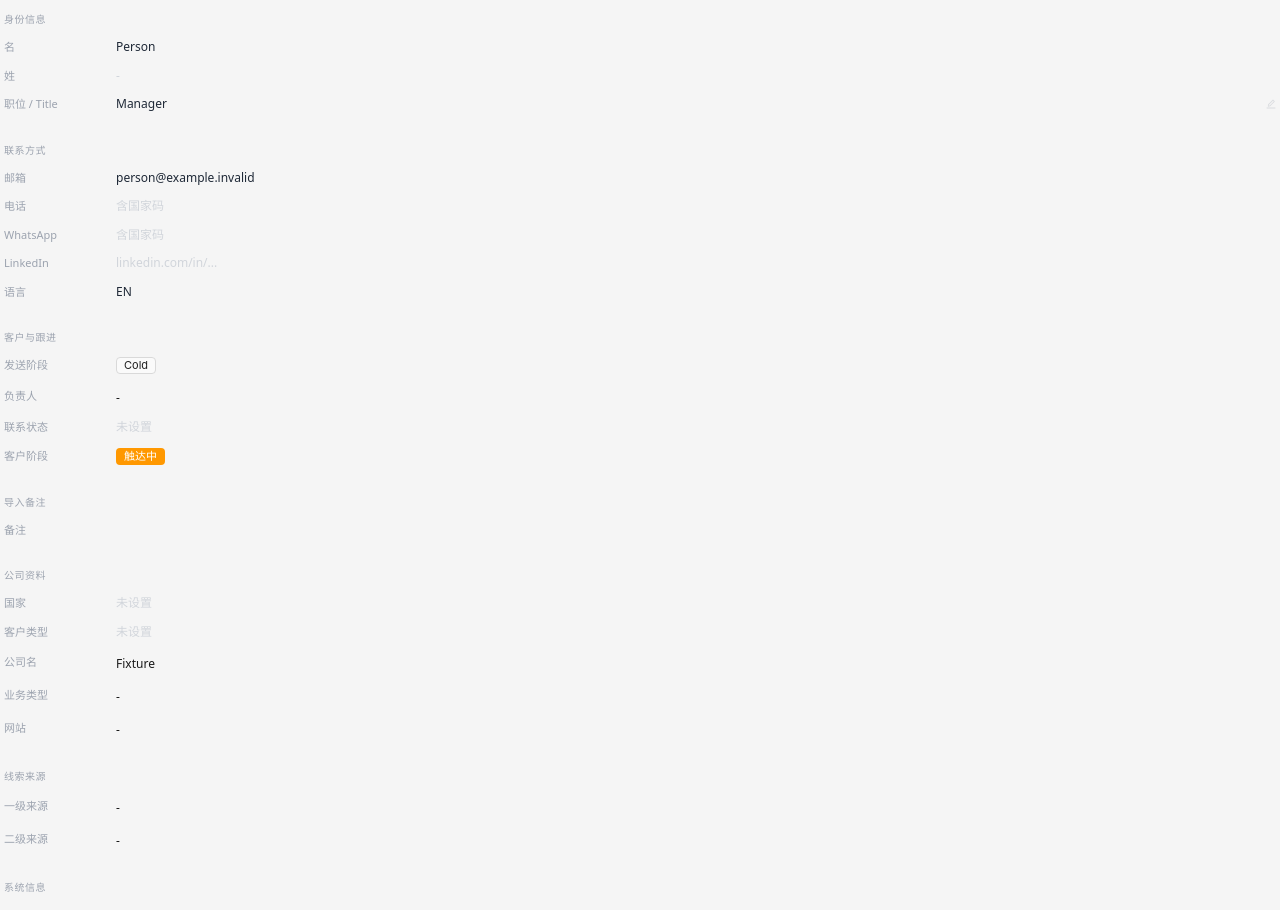
Test: sharing renderer interactions › preserves field rows while only granted fields enter edit mode
The width and height of the screenshot is (1280, 910).
Expected: the button "person@example.invalid" is disabled, [116,170,1276,186]
Expected: the button "触达中" is disabled, [116,448,1276,464]
Click the button "Manager" at (141, 104), box [116,96,1276,112]
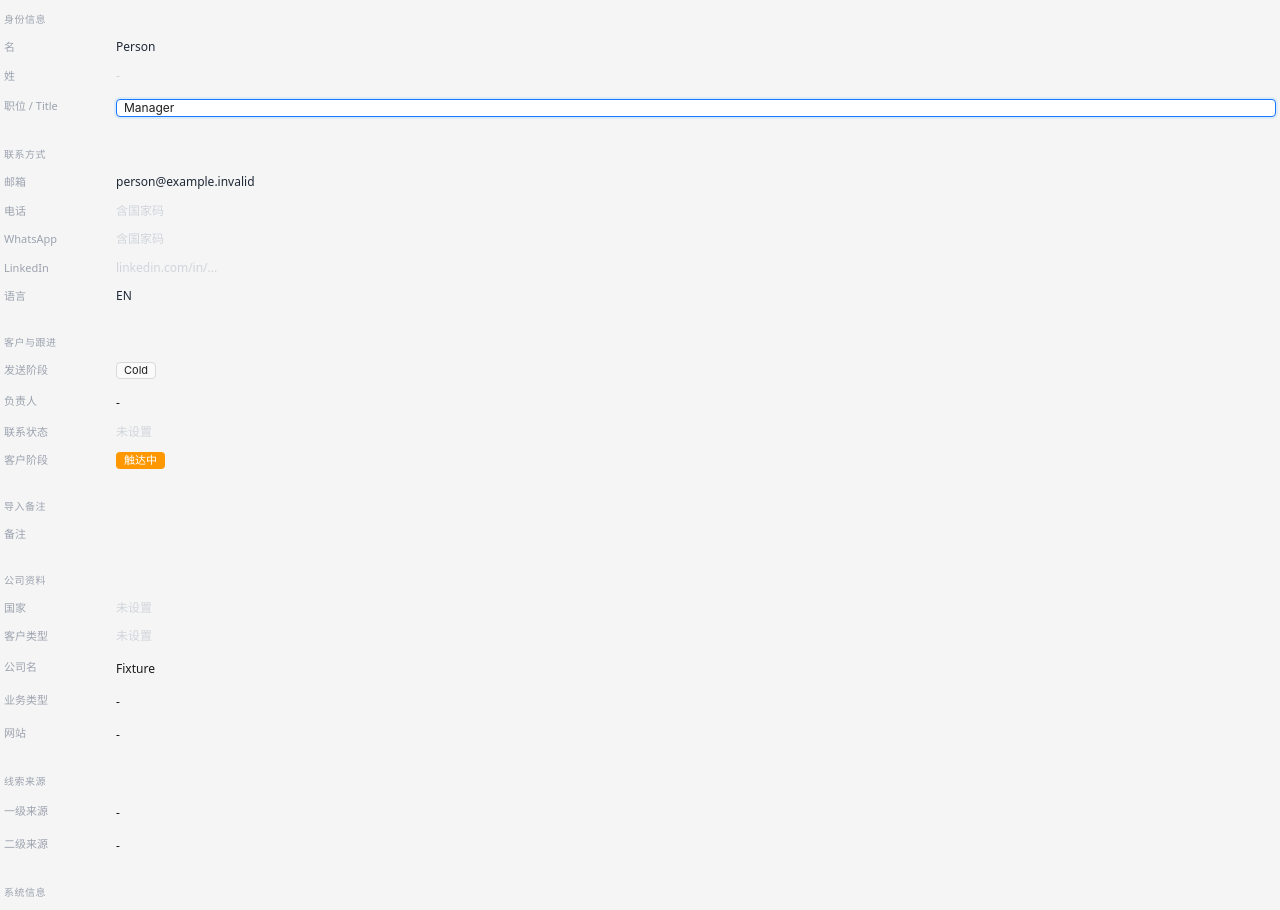
Expected: the field is shown, [116,99,1276,117]
